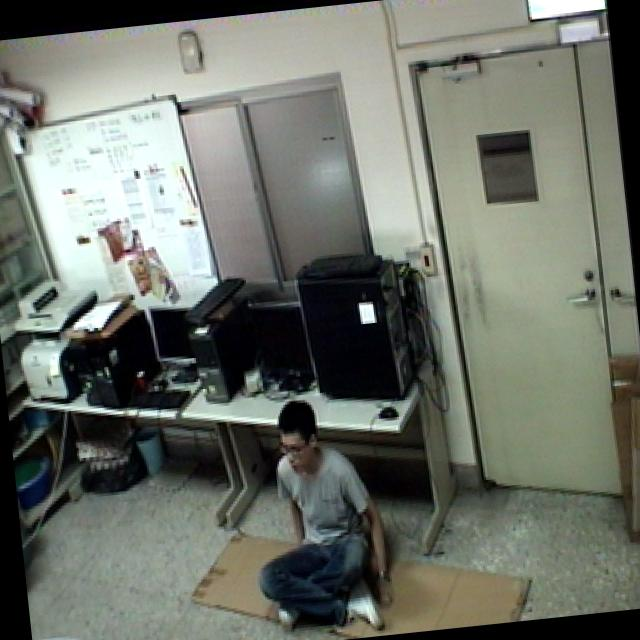sit: (234, 389, 401, 640)
